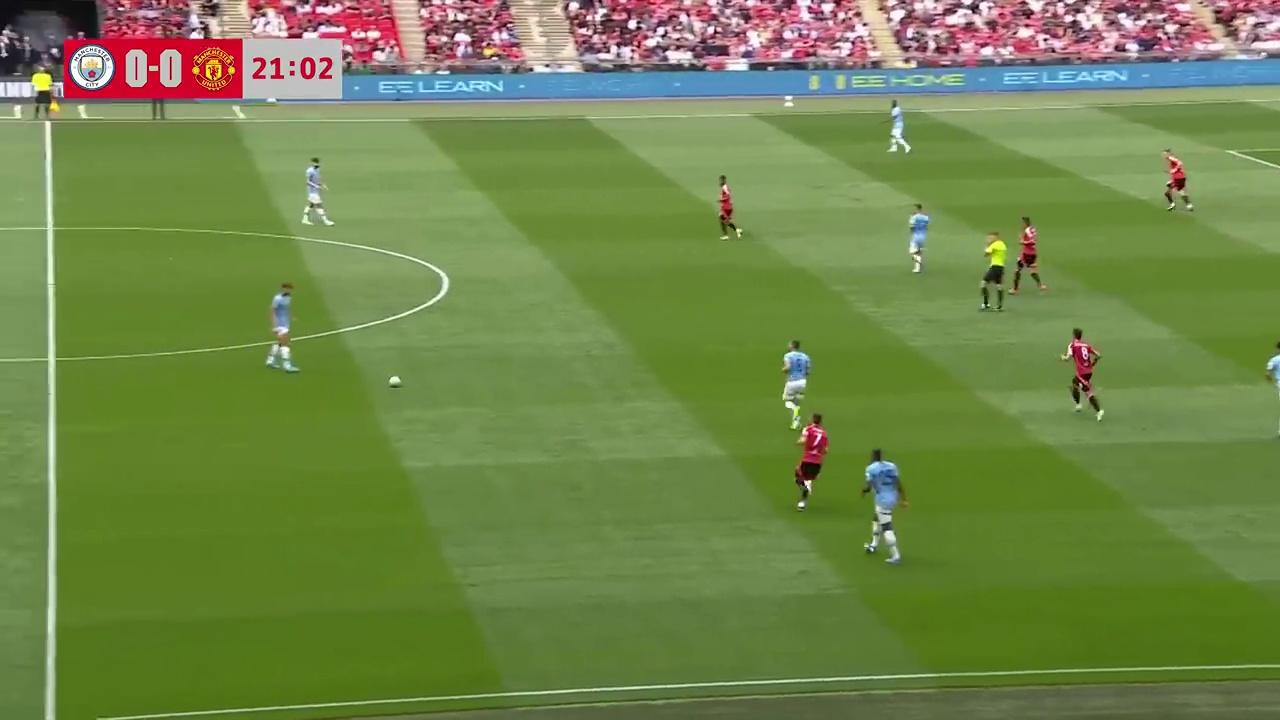ball: (386, 372, 402, 388)
player: (859, 448, 908, 563), (1060, 327, 1102, 419), (793, 412, 829, 509), (264, 280, 300, 372), (1009, 216, 1047, 295), (781, 338, 811, 426), (300, 157, 334, 226), (1162, 150, 1193, 213), (907, 203, 931, 274), (1264, 339, 1280, 442), (717, 175, 742, 240), (886, 100, 911, 154)
referee: (978, 231, 1008, 312), (30, 66, 57, 121)
